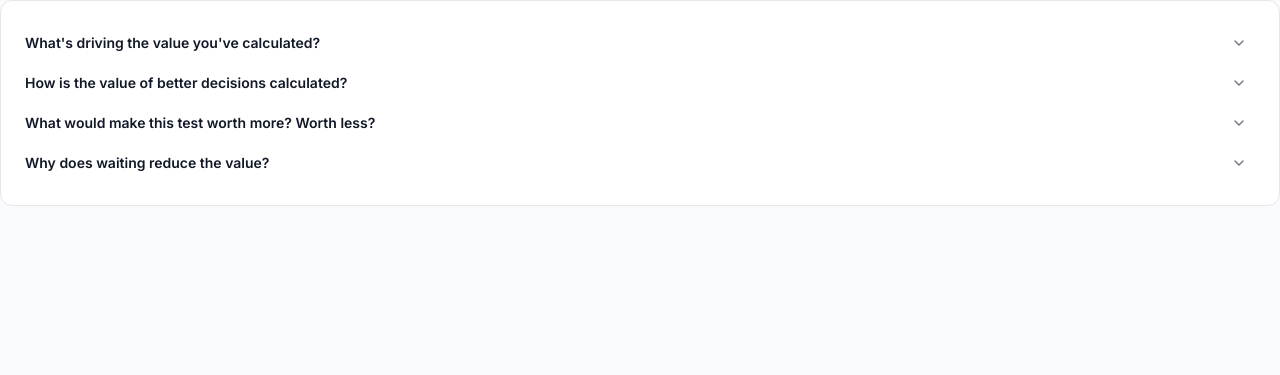
Test case: FAQAccordion › Test 10: Accordion 4 answer contains timingCost formatted as currency
Click the button "Why does waiting reduce the value?" at (147, 162), box [21,145,1251,181]
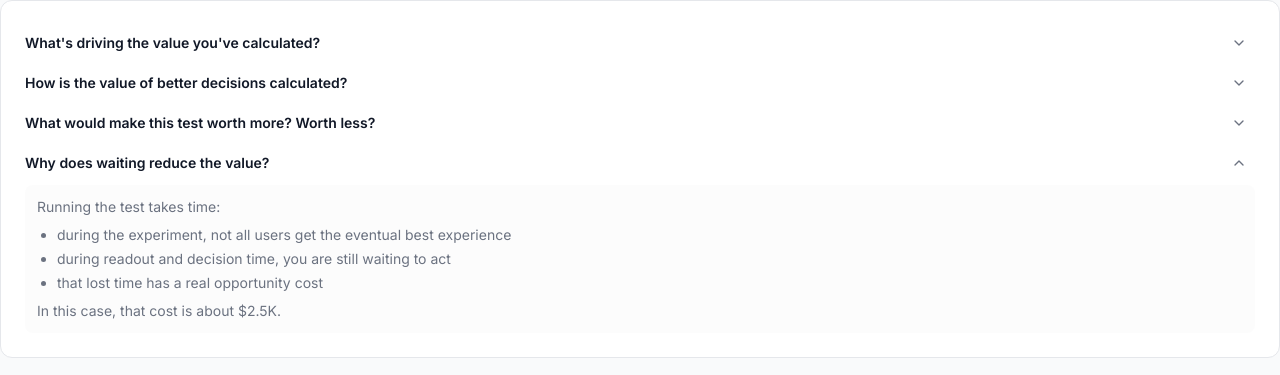
expect the text "In this case, that cost is about $2.5K." is shown: met, box [37,302,281,319]
